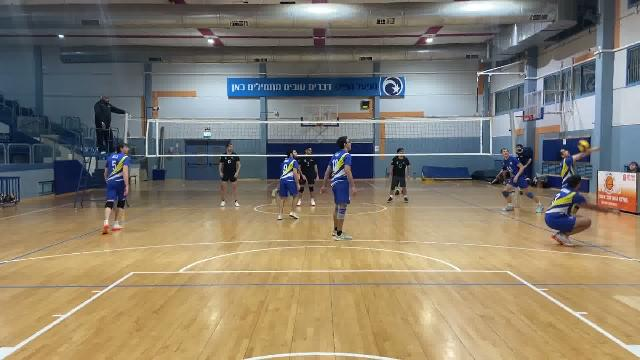ball: (578, 139, 590, 151)
